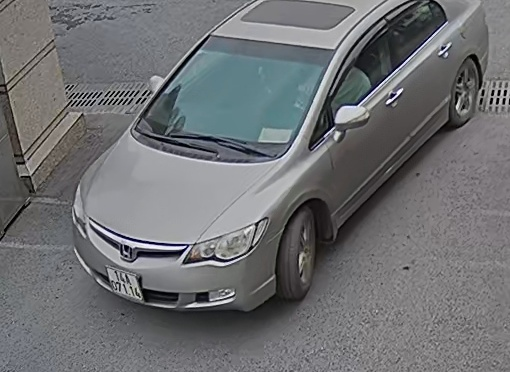vehicle plate: (103, 266, 144, 302)
